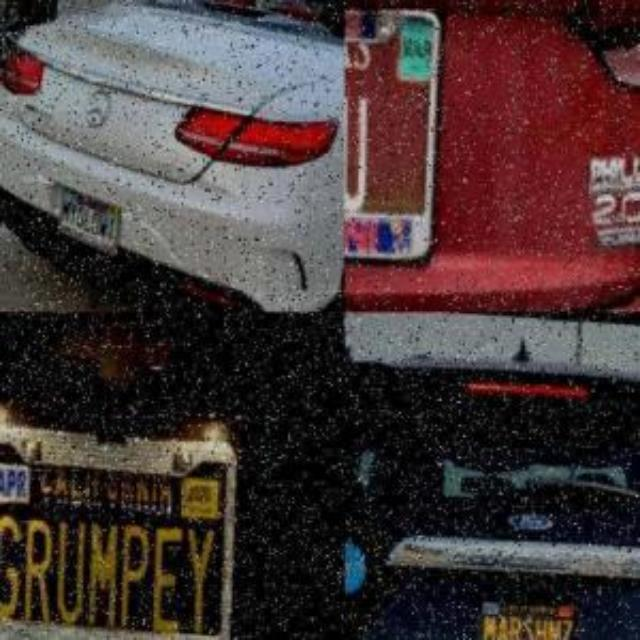License Plate: (0, 416, 238, 640), (344, 3, 437, 255), (473, 584, 581, 639), (54, 181, 124, 256)
